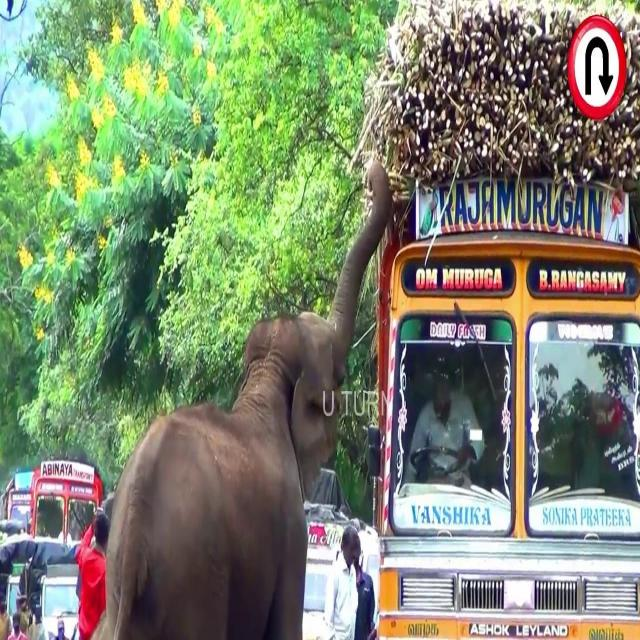Elephant: (101, 159, 393, 633)
